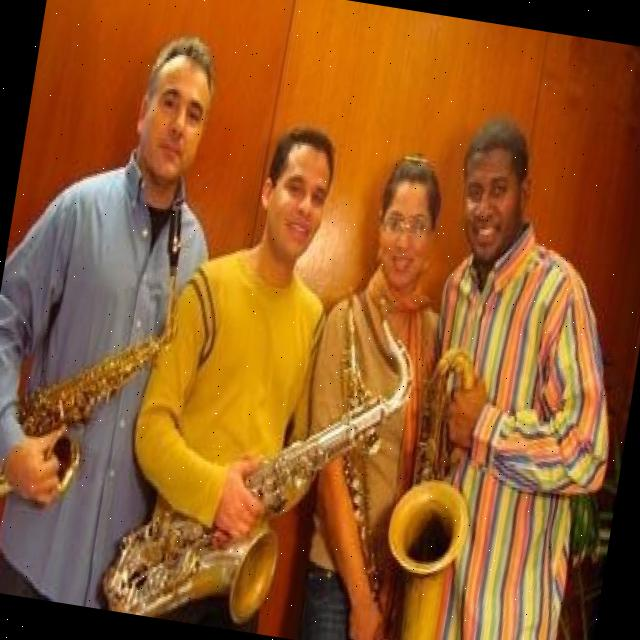saxophone: (96, 273, 418, 640), (0, 151, 205, 530), (286, 282, 436, 639), (389, 337, 499, 640)
